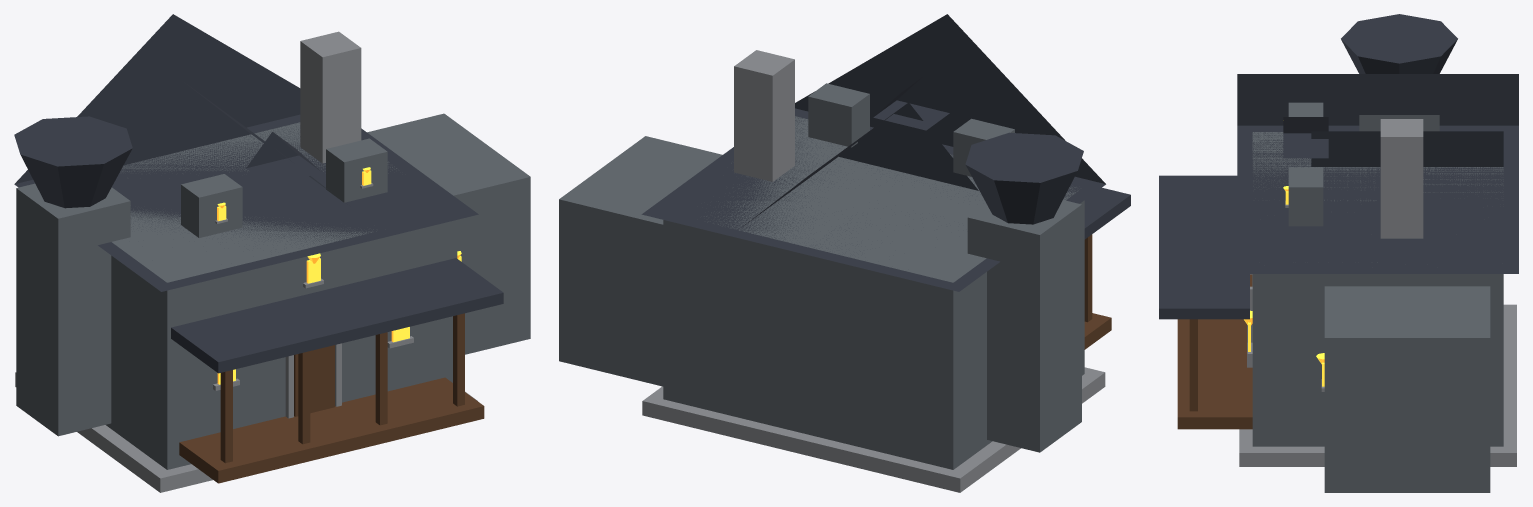
Rendered from house_lv5.glb.
The picture shows the model from 3 angles, left to right: view 1: azimuth 30°, elevation 25°; view 2: azimuth 150°, elevation 25°; view 3: azimuth 270°, elevation 25°; orthographic projection. The views are drawn at different scales.
Visible parts, largest first — view 1: Walls, Roof, LeftTower, PorchRoof, RightWing, GrandPorch, LeftTowerRoof, Chimney, RightWingRoof, Dormer2.0999999999999996, Dormer-2.0999999999999996, Foundation (+7 smaller); view 2: Walls, RightWing, Roof, LeftTower, Foundation, LeftTowerRoof, Chimney, RightWingRoof, Dormer2.0999999999999996, DormerRoof-2.0999999999999996, PorchRoof, Dormer-2.0999999999999996 (+2 smaller); view 3: Roof, RightWing, Walls, PorchRoof, GrandPorch, LeftTowerRoof, Chimney, RightWingRoof, Foundation, Dormer2.0999999999999996, DormerRoof-2.0999999999999996, PorchPost2.4 (+2 smaller).
Boxes of the visible parts, x1=… form: Walls: x1=106, y1=122, x2=457, y2=469; Roof: x1=14, y1=14, x2=478, y2=291; LeftTower: x1=16, y1=183, x2=130, y2=436; PorchRoof: x1=171, y1=258, x2=503, y2=373; RightWing: x1=367, y1=113, x2=530, y2=354; GrandPorch: x1=179, y1=377, x2=484, y2=483; LeftTowerRoof: x1=14, y1=116, x2=132, y2=208; Chimney: x1=300, y1=31, x2=361, y2=163; RightWingRoof: x1=124, y1=80, x2=347, y2=204; Dormer2.0999999999999996: x1=326, y1=138, x2=387, y2=202; Dormer-2.0999999999999996: x1=181, y1=174, x2=242, y2=237; Foundation: x1=15, y1=372, x2=477, y2=492; Walls: x1=663, y1=116, x2=1084, y2=469; RightWing: x1=559, y1=136, x2=722, y2=386; Roof: x1=641, y1=14, x2=1105, y2=291; LeftTower: x1=967, y1=200, x2=1081, y2=452; Foundation: x1=642, y1=367, x2=1105, y2=492; LeftTowerRoof: x1=965, y1=132, x2=1083, y2=224; Chimney: x1=734, y1=50, x2=794, y2=181; RightWingRoof: x1=743, y1=102, x2=978, y2=226; Dormer2.0999999999999996: x1=808, y1=83, x2=869, y2=147; DormerRoof-2.0999999999999996: x1=873, y1=76, x2=949, y2=130; PorchRoof: x1=1084, y1=187, x2=1130, y2=239; Dormer-2.0999999999999996: x1=953, y1=118, x2=1014, y2=176; Roof: x1=1237, y1=74, x2=1518, y2=273; RightWing: x1=1324, y1=286, x2=1490, y2=492; Walls: x1=1252, y1=132, x2=1503, y2=446; PorchRoof: x1=1159, y1=175, x2=1249, y2=319; GrandPorch: x1=1177, y1=319, x2=1252, y2=429; LeftTowerRoof: x1=1341, y1=14, x2=1457, y2=73; Chimney: x1=1380, y1=119, x2=1423, y2=238; RightWingRoof: x1=1311, y1=131, x2=1503, y2=166; Foundation: x1=1239, y1=304, x2=1516, y2=466; Dormer2.0999999999999996: x1=1288, y1=167, x2=1323, y2=226; DormerRoof-2.0999999999999996: x1=1283, y1=117, x2=1328, y2=158; PorchPost2.4: x1=1189, y1=319, x2=1197, y2=411.
Size of the model in its own units: 13.65 by 9.22 by 9.43.
